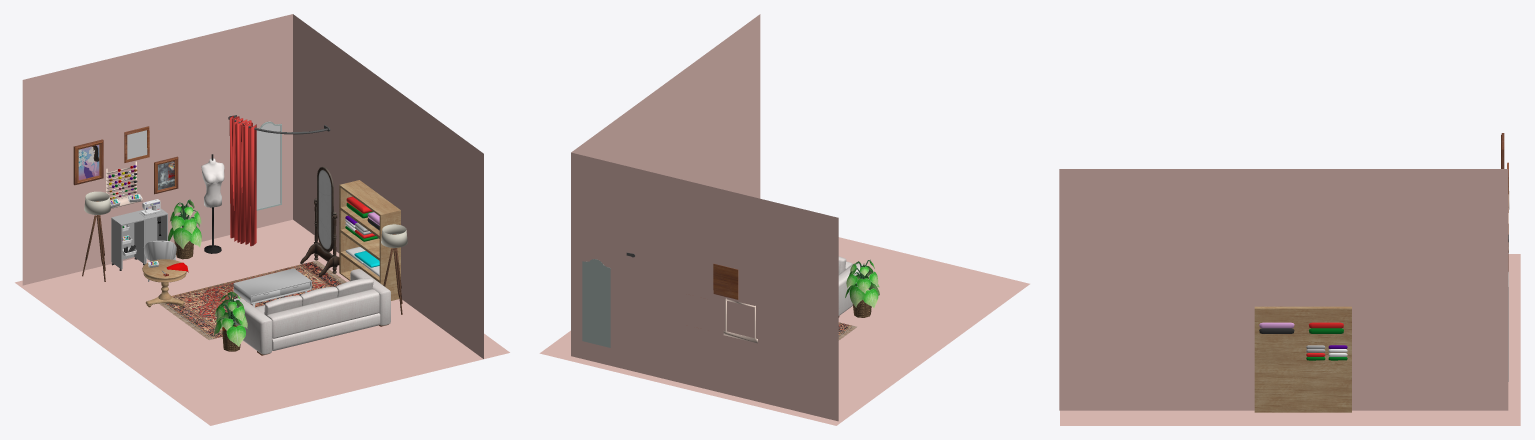
Rendered from Thrift Upgrades.fbx.
3 renders of one model, left to right at view 1: azimuth 30°, elevation 25°; view 2: azimuth 150°, elevation 25°; view 3: azimuth 270°, elevation 25°, orthographic. The views are drawn at different scales.
Parts seen in each view (by area): view 1: RoomWall, RoomFloor, Sofa, Cabinet, Dressing, Carpet1, SewingMachine, DresingMirror, Mirror, CoffeeTable, Mannequin, Table (+9 smaller); view 2: RoomWall, RoomFloor, DresingMirror, Leaf.001, Frame2, Sofa; view 3: RoomWall, Cabinet, RoomFloor.
Boxes of the visible parts, x1,y1,x2,y2 form: RoomWall: [22, 14, 483, 358]; RoomFloor: [15, 219, 509, 425]; Sofa: [234, 269, 390, 355]; Cabinet: [339, 180, 400, 300]; Dressing: [228, 115, 330, 246]; Carpet1: [159, 260, 346, 339]; SewingMachine: [111, 199, 167, 270]; DresingMirror: [256, 121, 281, 210]; Mirror: [300, 166, 339, 277]; CoffeeTable: [233, 268, 311, 306]; Mannequin: [201, 154, 224, 253]; Table: [142, 259, 186, 307]; RoomWall: [571, 14, 838, 421]; RoomFloor: [539, 237, 1029, 425]; DresingMirror: [582, 259, 610, 347]; Leaf.001: [845, 261, 879, 308]; Frame2: [713, 263, 738, 299]; Sofa: [838, 256, 862, 317]; RoomWall: [1059, 169, 1508, 410]; Cabinet: [1254, 306, 1351, 412]; RoomFloor: [1060, 254, 1520, 425].
Bounding box in the file's own units: 541 × 356 × 613.
